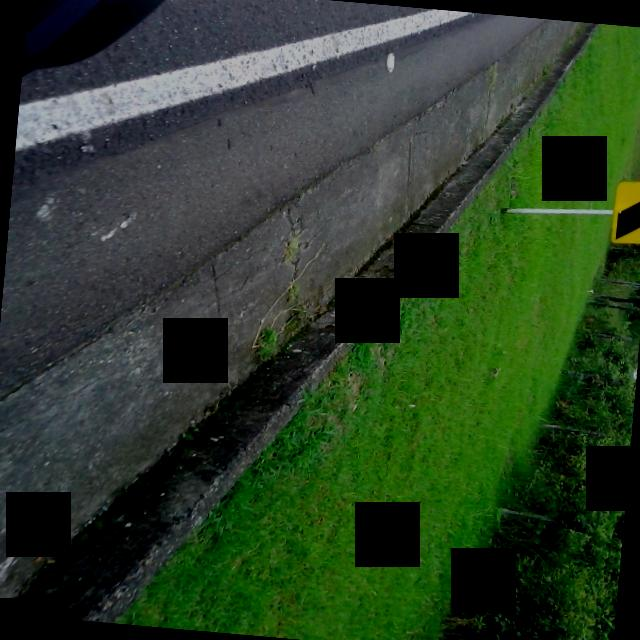DITCH: (0, 0, 632, 640), (0, 0, 598, 640)
